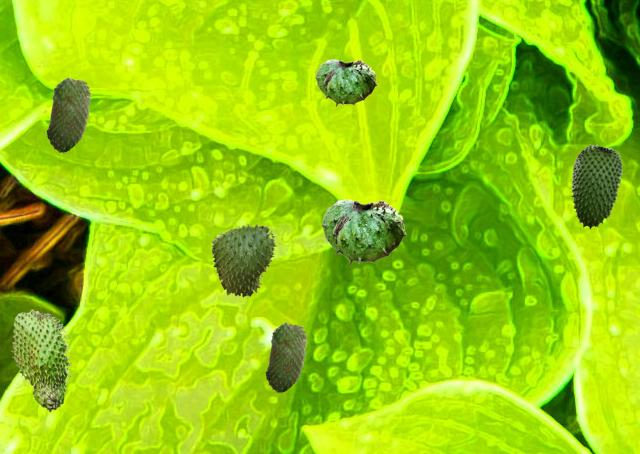guyabano: (11, 309, 71, 411), (321, 199, 405, 265), (211, 223, 276, 298), (571, 144, 621, 228), (46, 77, 90, 152), (265, 322, 306, 392), (315, 59, 376, 106)
